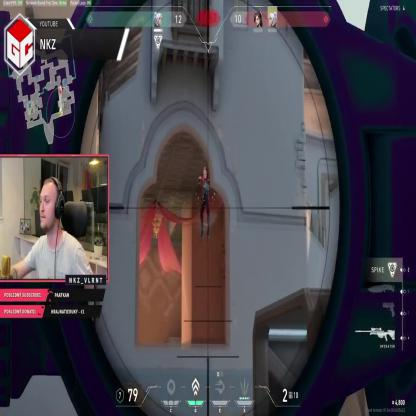enemy: (198, 166, 212, 236)
enemy_head: (203, 167, 207, 180)
